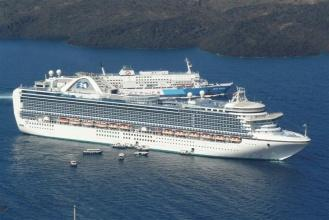otherboat: (83, 146, 104, 154)
youlun: (10, 56, 313, 161)
